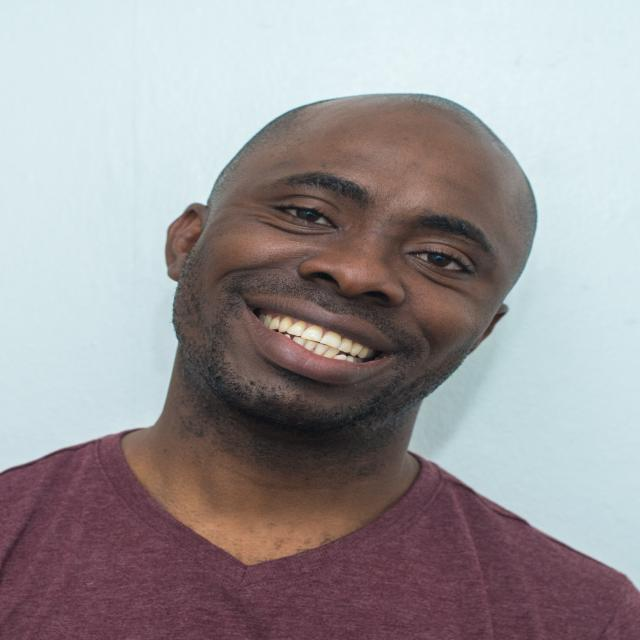happy: (162, 81, 550, 457)
